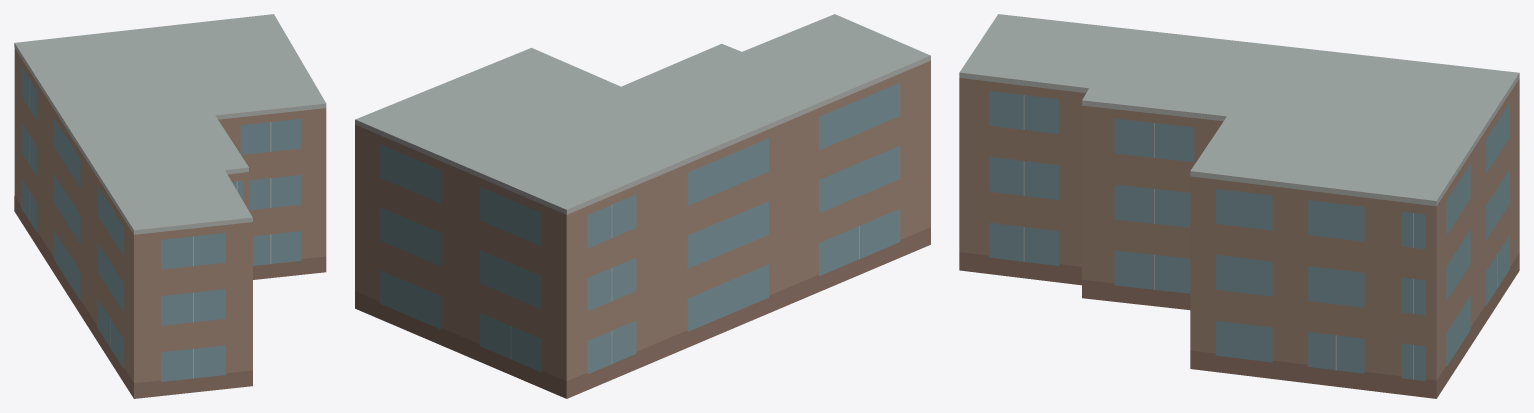
The model's file is survey-upis-32718596.glb.
3 renders of one model, left to right at view 1: azimuth 30°, elevation 25°; view 2: azimuth 150°, elevation 25°; view 3: azimuth 270°, elevation 25°, orthographic. The views are drawn at different scales.
Parts seen in each view (by area): view 1: survey-upis-32718596.tmp; view 2: survey-upis-32718596.tmp; view 3: survey-upis-32718596.tmp.
Part boxes in pixels (box(x1,y1,x2,y2)): survey-upis-32718596.tmp: box(14, 14, 326, 398); survey-upis-32718596.tmp: box(355, 14, 930, 398); survey-upis-32718596.tmp: box(959, 14, 1519, 398).
Size of the model in its own units: 18.56 by 9.15 by 23.49.
